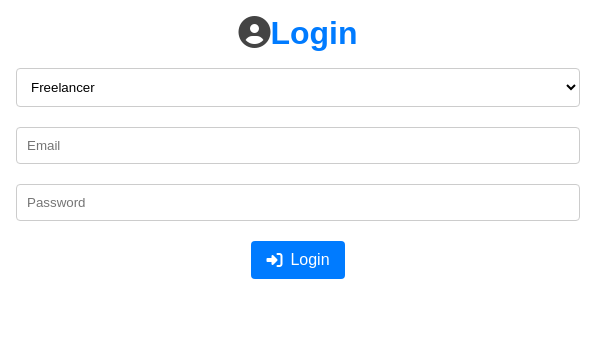
Test case: Login Component › validates that the email is required and must be valid
Type "invalid-email" into the field with placeholder "Email".
click(298, 145); type("invalid-email")  # box [16,126,580,164]
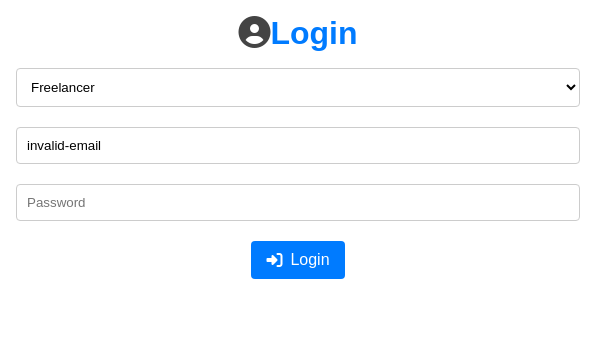
Click the button "Login".
click(298, 260)  # box [251,240,345,278]
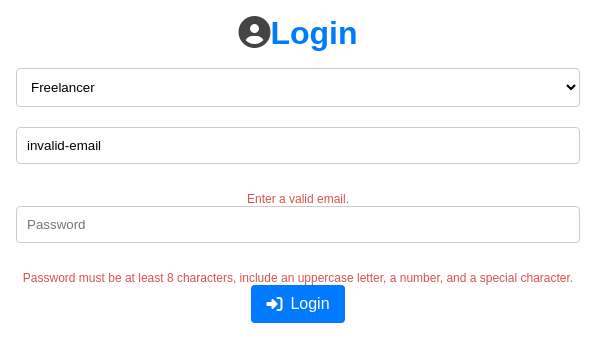
expect the text "Enter a valid email." is shown: met, box [247,192,349,206]
